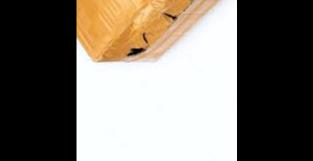damage_box: (76, 0, 235, 64)
